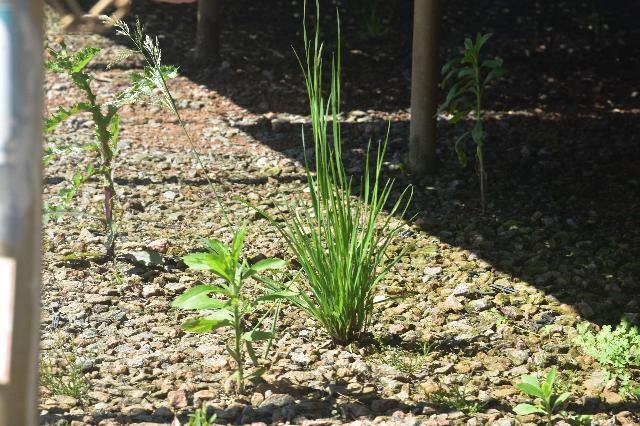MalezaMontesDelPlata: (286, 0, 416, 356), (42, 34, 164, 275), (179, 219, 283, 403), (443, 33, 507, 210), (571, 313, 640, 409), (39, 334, 95, 414), (509, 360, 564, 426)
